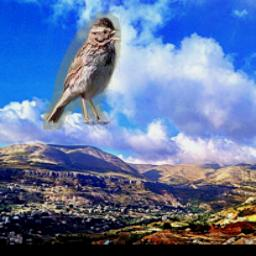Sparrow: (45, 13, 122, 131)
